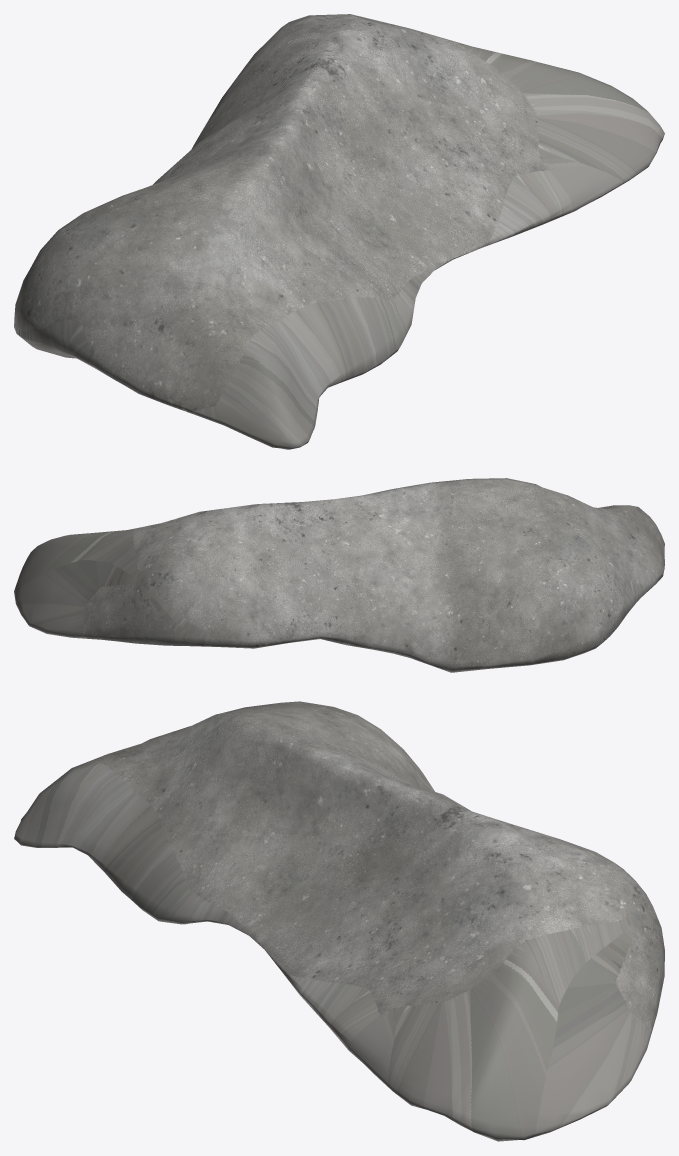
Rendered from rock4.fbx.
The picture shows the model from 3 angles, top to bottom: view 1: azimuth 30°, elevation 25°; view 2: azimuth 150°, elevation 25°; view 3: azimuth 270°, elevation 25°; orthographic projection. The views are drawn at different scales.
Visible parts, largest first — view 1: rock4; view 2: rock4; view 3: rock4.
Boxes of the visible parts, x1,y1,x2,y2 form: rock4: [14, 14, 664, 449]; rock4: [14, 478, 664, 672]; rock4: [14, 701, 664, 1141].
Size of the model in its own units: 1163 by 288 by 958.
Materials: 1 (1 with a texture image).
